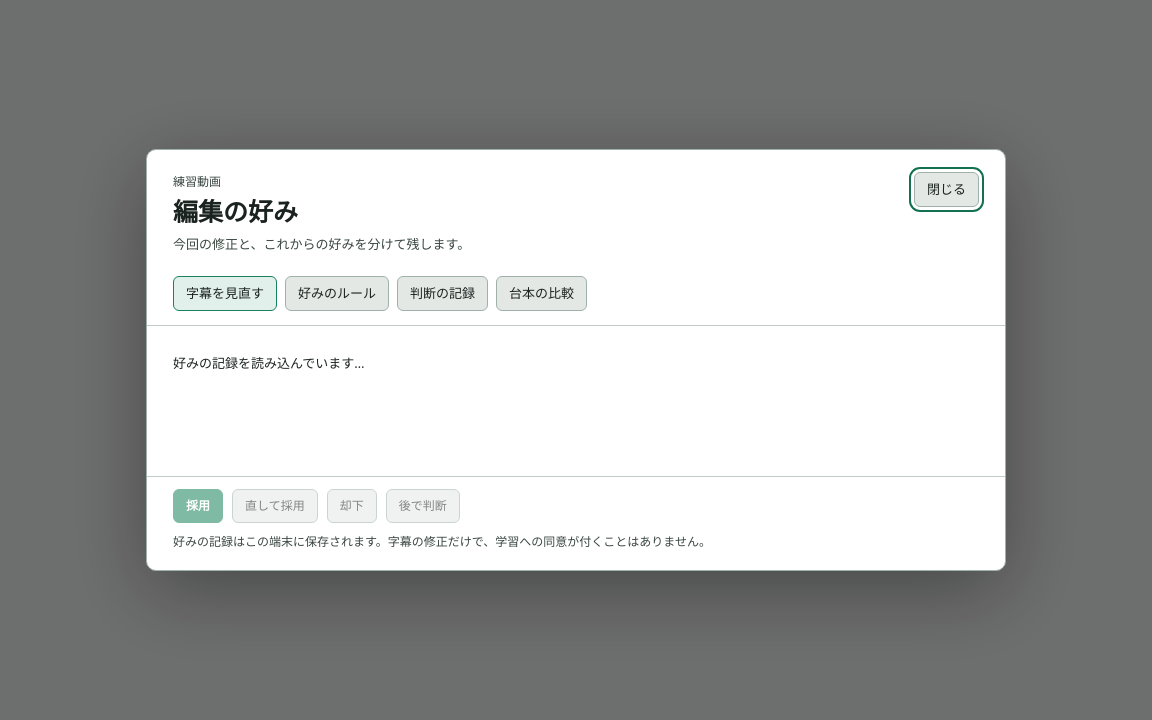
Scenario: この動画でのルール利用可否 › 利用可能は提案資格であり、競合時は提案しないと説明する
Click the button "好みのルール".
click(337, 294)  # box [285,276,389,311]
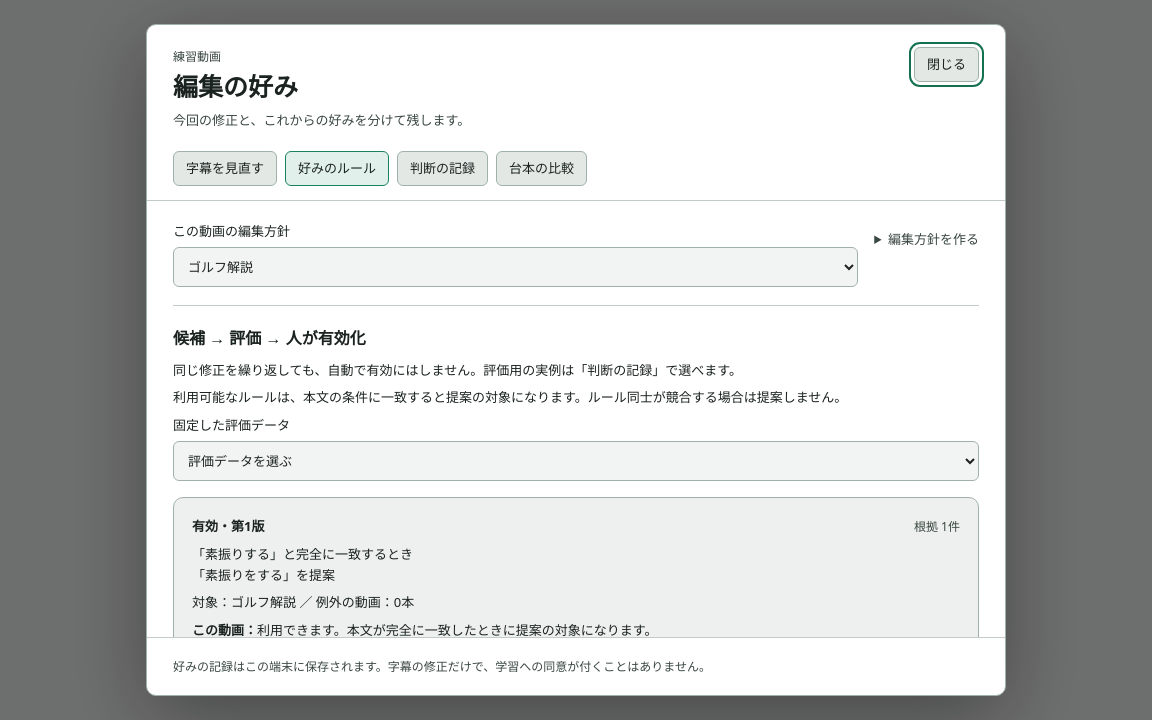
Now the heading "候補 → 評価 → 人が有効化" is shown, box [173,327,366,349]
Now the text "利用可能なルールは、本文の条件に一致すると提案の対象になります。ルール同士が競合する場合は提案しません。" is shown, box [173,388,847,406]
